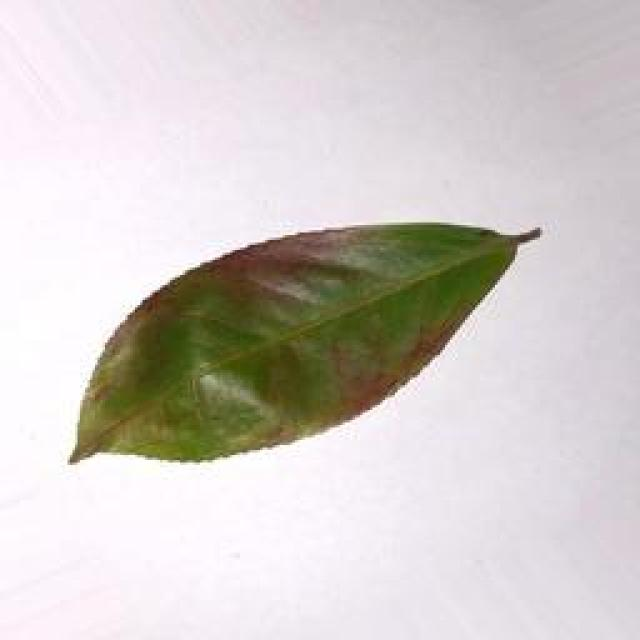Red Leaf Spot: (49, 191, 548, 477)
